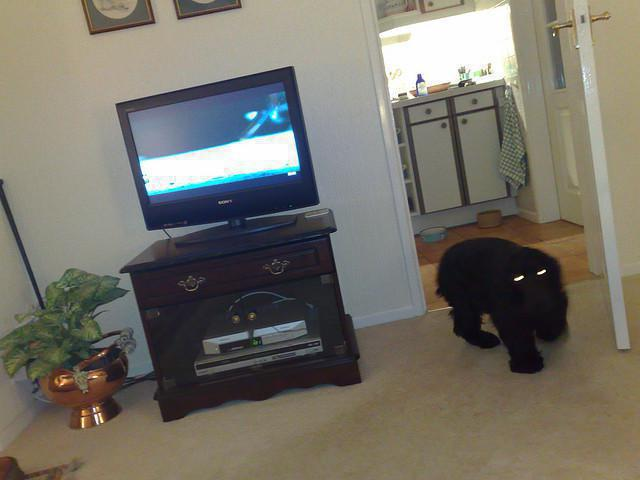Matera: (6, 254, 139, 439)
